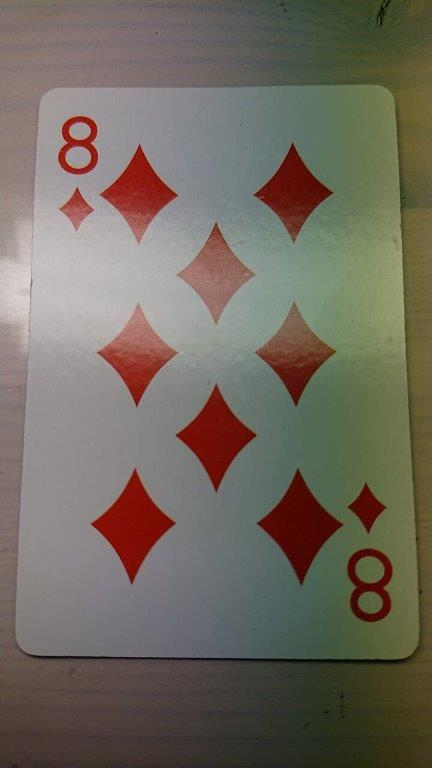8D: (12, 82, 422, 662)
